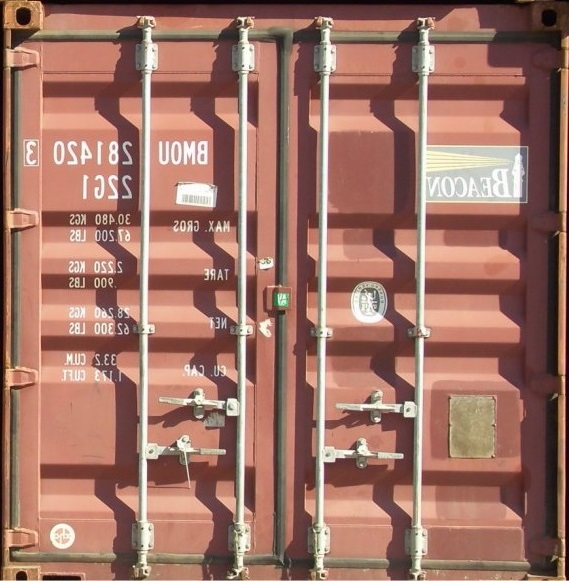container_door: (2, 2, 551, 581)
